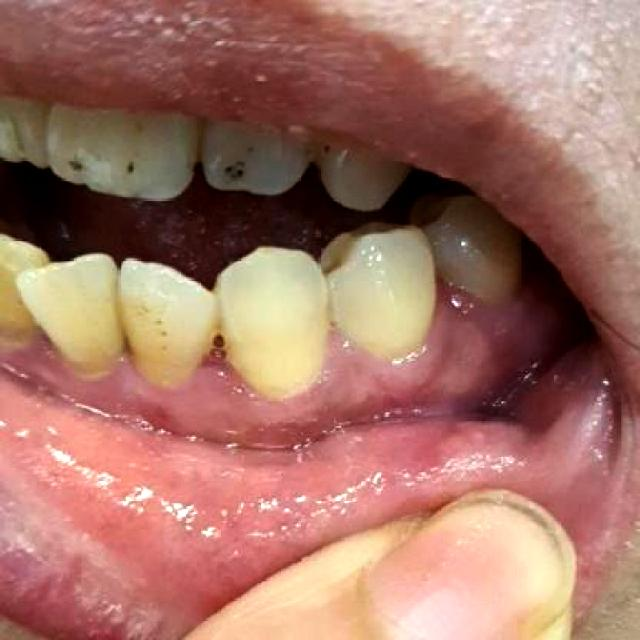Plaque: (242, 279, 521, 428), (5, 331, 68, 382), (195, 345, 237, 384), (319, 255, 342, 276)
